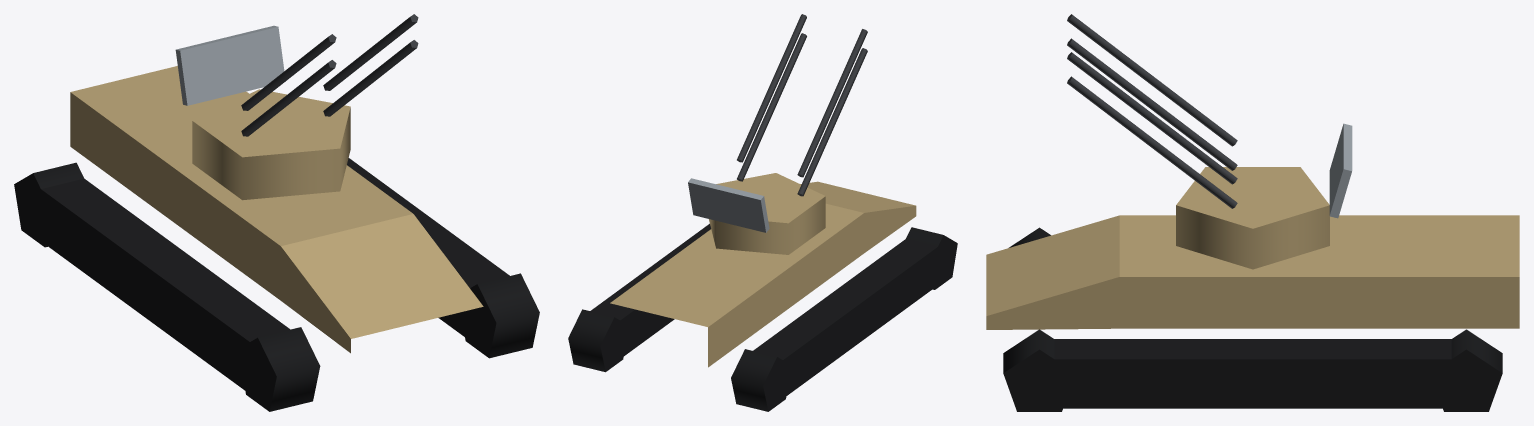
File: veh_ground_aa_tracked_a07_lod1.glb
3 renders of one model, left to right at view 1: azimuth 30°, elevation 25°; view 2: azimuth 150°, elevation 25°; view 3: azimuth 270°, elevation 25°, orthographic. The views are drawn at different scales.
Parts seen in each view (by area): view 1: body, track_r, turret, track_l, radar; view 2: body, track_r, turret, track_l, radar; view 3: body, track_l, turret, radar.
Boxes of the visible parts, x1,y1,x2,y2 form: body: (70,66,483,353); track_r: (14,162,320,411); turret: (192,14,418,200); track_l: (347,158,539,358); radar: (175,25,285,105); body: (610,181,916,367); track_r: (731,227,957,411); turret: (709,14,867,254); track_l: (568,223,710,372); radar: (688,178,769,232); body: (986,215,1519,329); track_l: (1003,329,1502,411); turret: (1067,14,1329,269); radar: (1329,123,1352,218).
Bounding box in the file's own units: 3.21 × 3.9 × 5.94.
